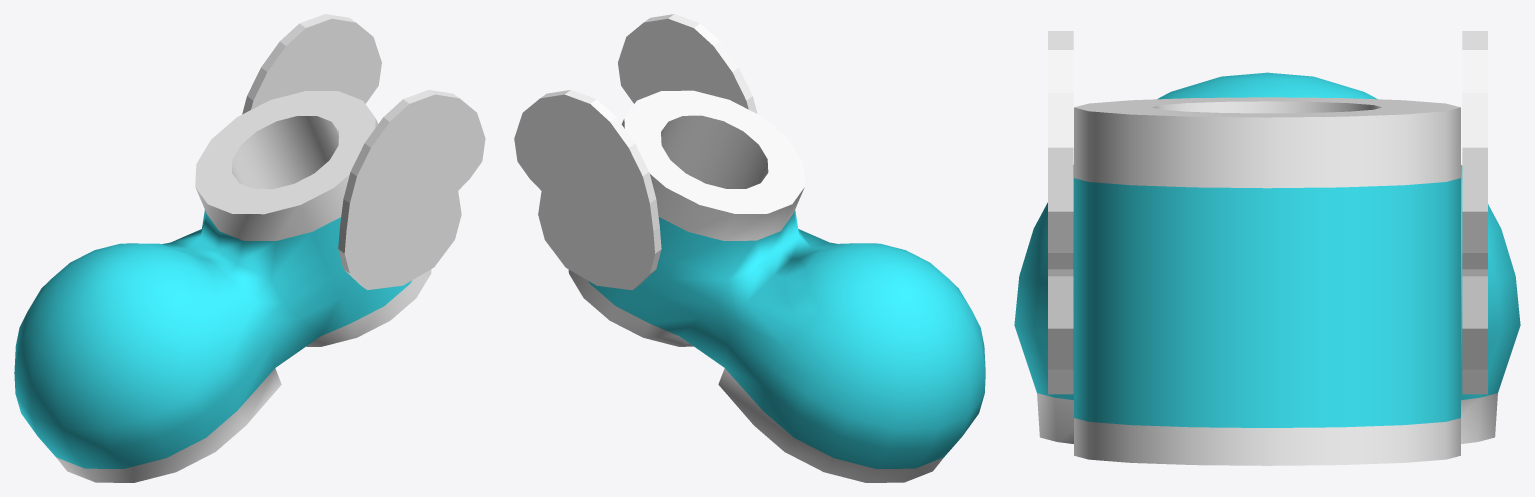
Rendered from speed_150423.fbx.
The picture shows the model from 3 angles, left to right: view 1: azimuth 30°, elevation 25°; view 2: azimuth 150°, elevation 25°; view 3: azimuth 270°, elevation 25°; orthographic projection. The views are drawn at different scales.
Parts seen in each view (by area): view 1: speed; view 2: speed; view 3: speed.
Part boxes in pixels (x1,y1,x2,y2): speed: [14, 14, 485, 482]; speed: [514, 14, 985, 482]; speed: [1014, 31, 1520, 465].
Size of the model in its own units: 1.7 by 1.38 by 0.9273.
1 material, 1 textured.
